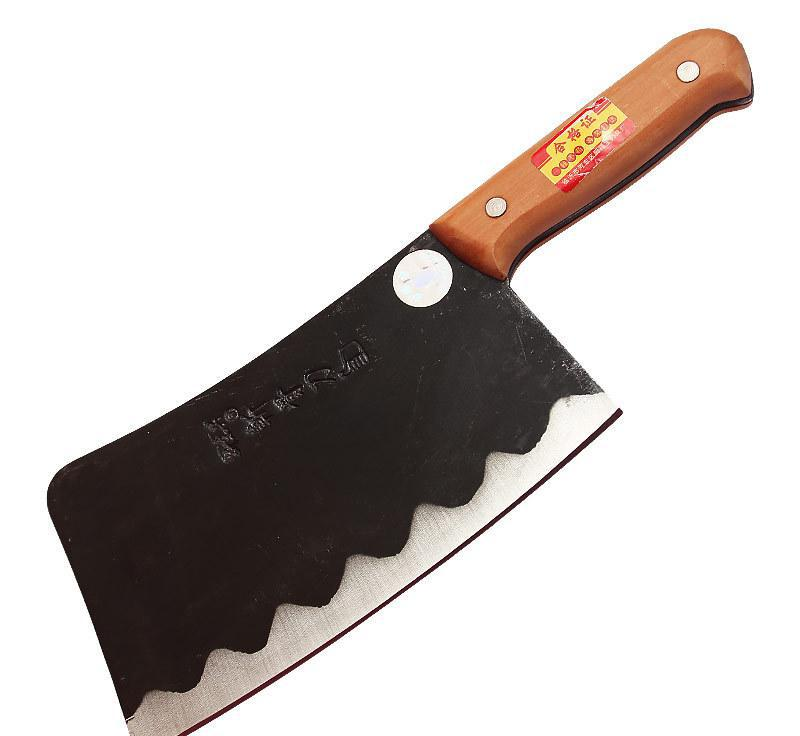knief: (114, 34, 760, 721)
